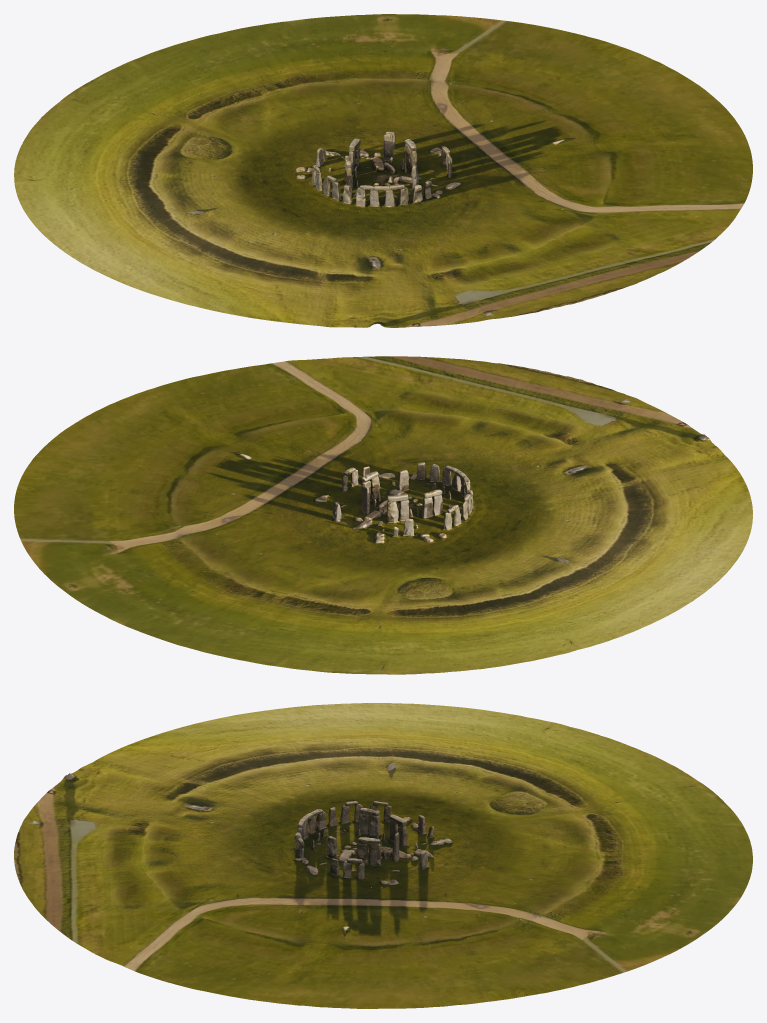
Rendered from sf-stonehenge-england-vr-7e7feb.glb.
3 renders of one model, top to bottom at view 1: azimuth 30°, elevation 25°; view 2: azimuth 150°, elevation 25°; view 3: azimuth 270°, elevation 25°, orthographic.
Visible parts, largest first — view 1: Stonehenge_Perimeter_0, Stonehenge_Center_0; view 2: Stonehenge_Perimeter_0, Stonehenge_Center_0; view 3: Stonehenge_Perimeter_0, Stonehenge_Center_0.
Boxes of the visible parts, x1,y1,x2,y2 form: Stonehenge_Perimeter_0: (14, 14, 752, 327); Stonehenge_Center_0: (292, 131, 469, 212); Stonehenge_Perimeter_0: (14, 356, 752, 674); Stonehenge_Center_0: (308, 462, 485, 545); Stonehenge_Perimeter_0: (14, 703, 752, 1008); Stonehenge_Center_0: (283, 801, 460, 887).
Size of the model in its own units: 140 by 7.36 by 140.
2 materials, 2 textured.
